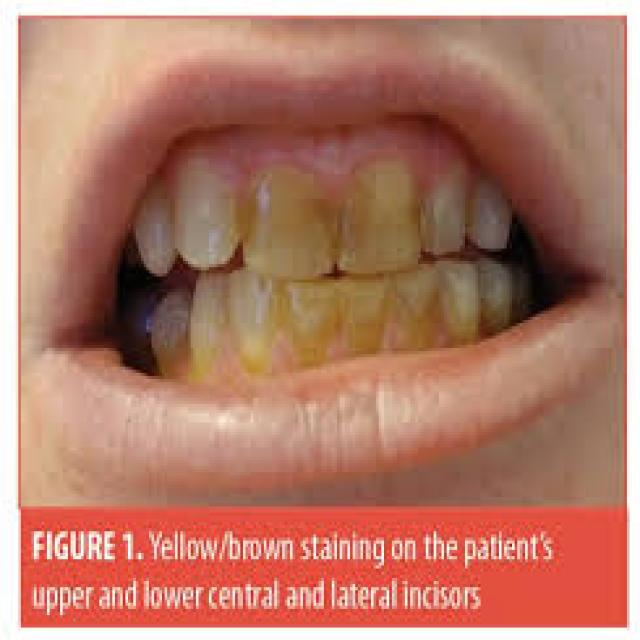Tooth Discoloration: (227, 152, 468, 382)
